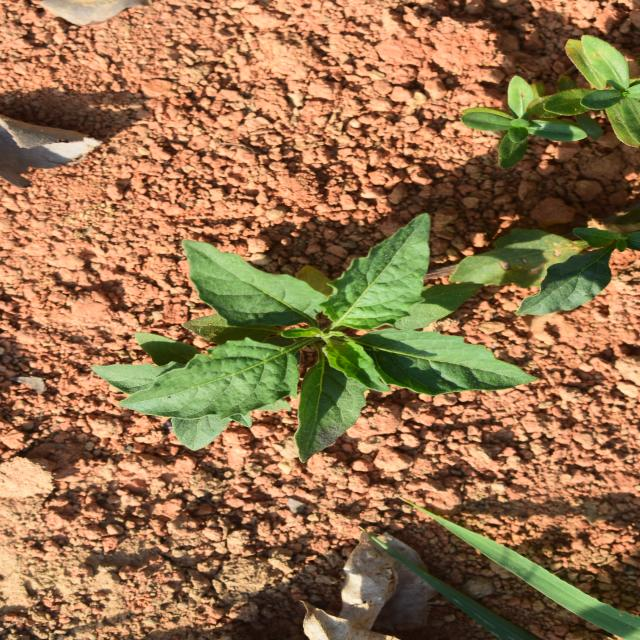Black_nightshade: (175, 140, 434, 509)
